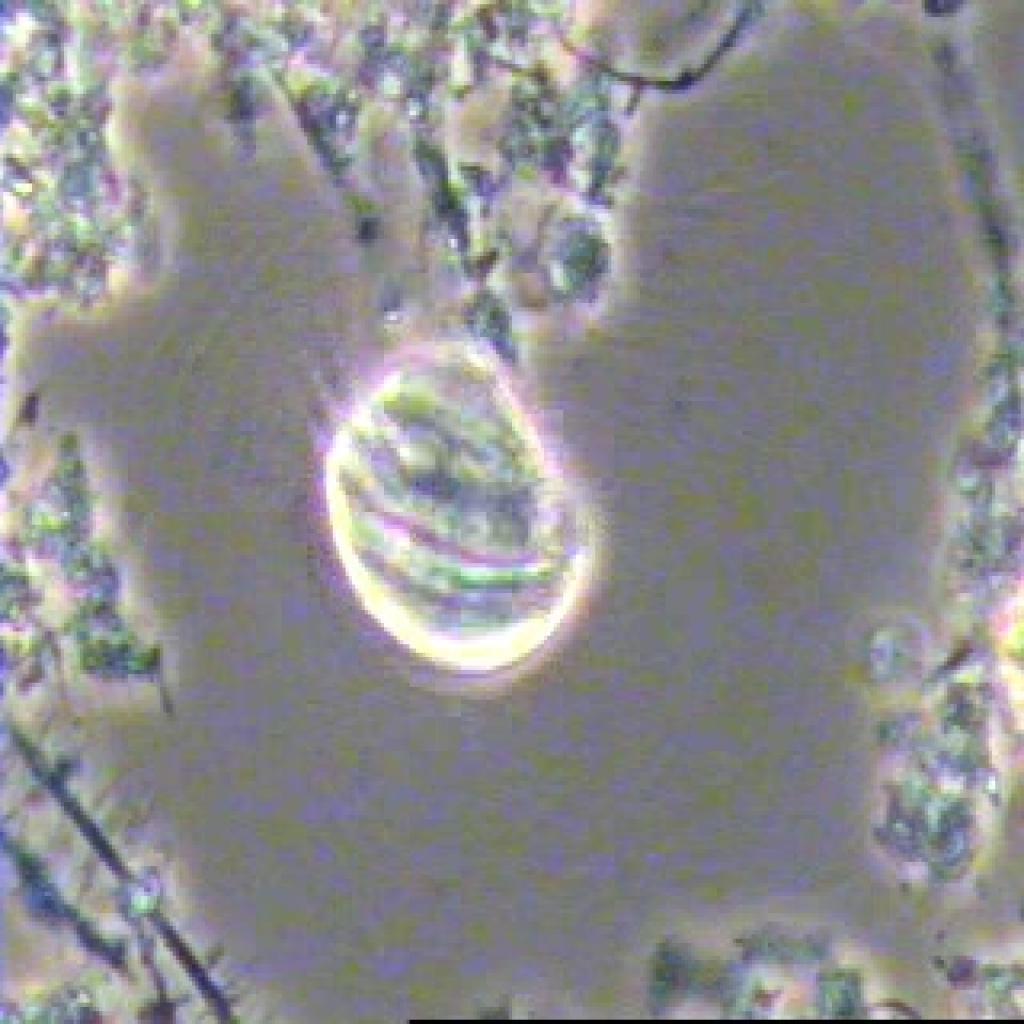Aspidisca: (275, 326, 621, 736)
